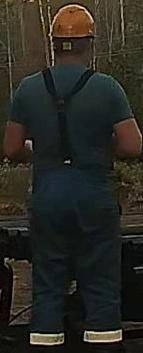helmet: (49, 3, 98, 38)
